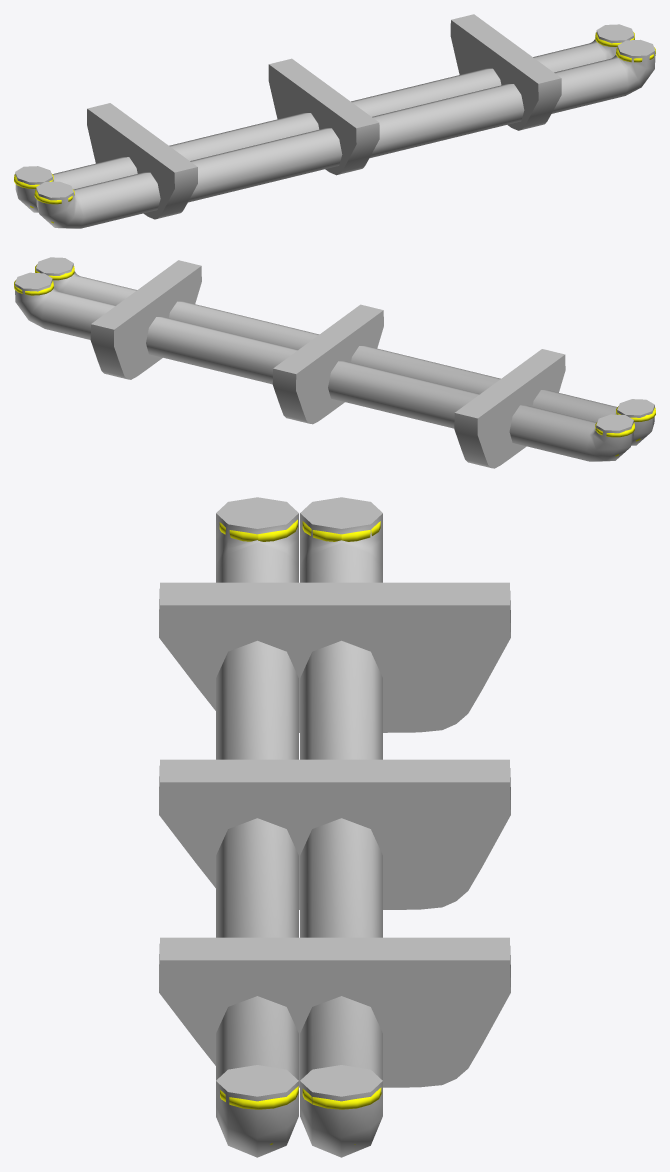
Rendered from sm_hana_bas_header.glb.
3 renders of one model, top to bottom at view 1: azimuth 30°, elevation 25°; view 2: azimuth 150°, elevation 25°; view 3: azimuth 270°, elevation 25°, orthographic. The views are drawn at different scales.
Parts seen in each view (by area): view 1: sm_color_common, sm_hana_bas_header; view 2: sm_color_common, sm_hana_bas_header; view 3: sm_color_common, sm_hana_bas_header.
Boxes of the visible parts, x1=… form: sm_color_common: x1=15, y1=14, x2=655, y2=228; sm_hana_bas_header: x1=14, y1=32, x2=655, y2=223; sm_color_common: x1=15, y1=257, x2=654, y2=468; sm_hana_bas_header: x1=14, y1=264, x2=655, y2=456; sm_color_common: x1=159, y1=497, x2=510, y2=1157; sm_hana_bas_header: x1=219, y1=519, x2=381, y2=1144.
Bounding box in the file's own units: 2.81 × 0.2786 × 0.6965.
Materials: 2 (1 with a texture image).
